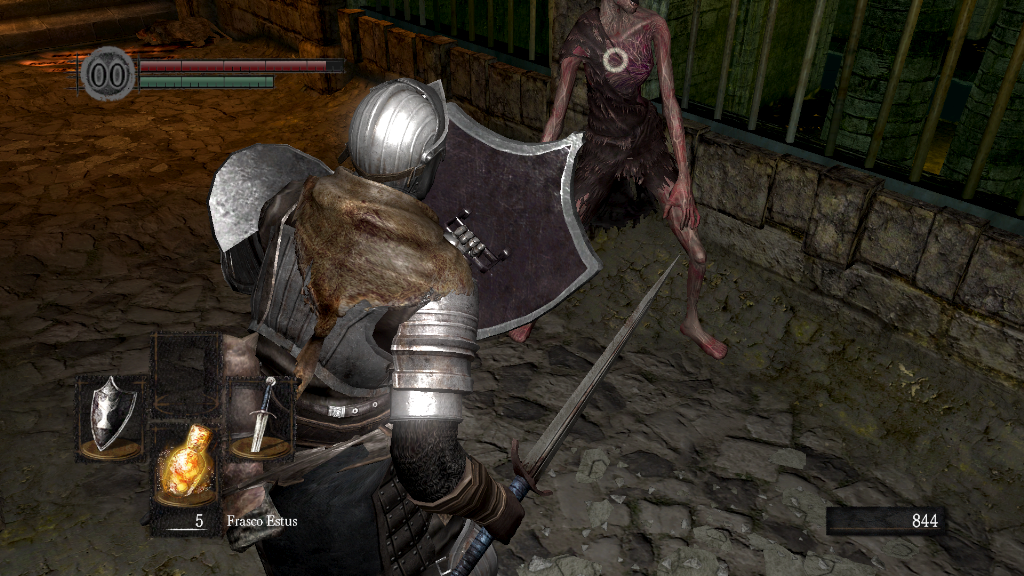health: (138, 58, 343, 71)
hollow: (506, 1, 730, 363)
humanity: (80, 45, 136, 102)
player: (208, 77, 680, 576)
souls: (825, 506, 945, 536)
stamina: (138, 74, 274, 88)
